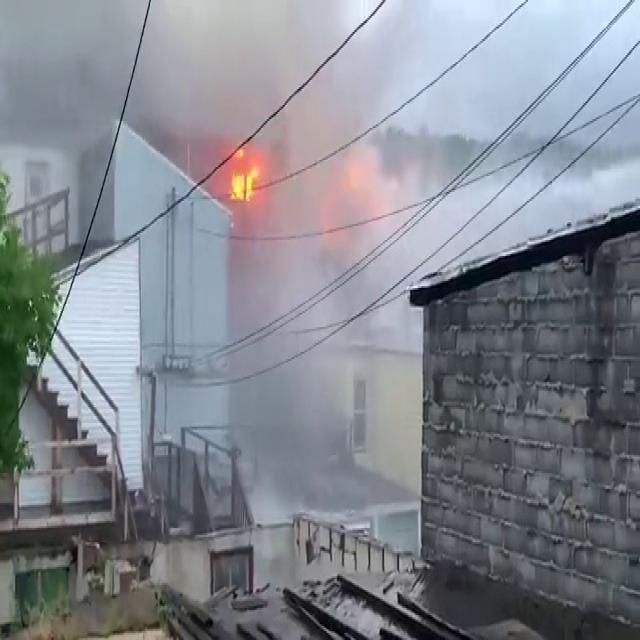Fire: (217, 132, 269, 210)
Smoke: (162, 24, 422, 496), (0, 0, 228, 179)
